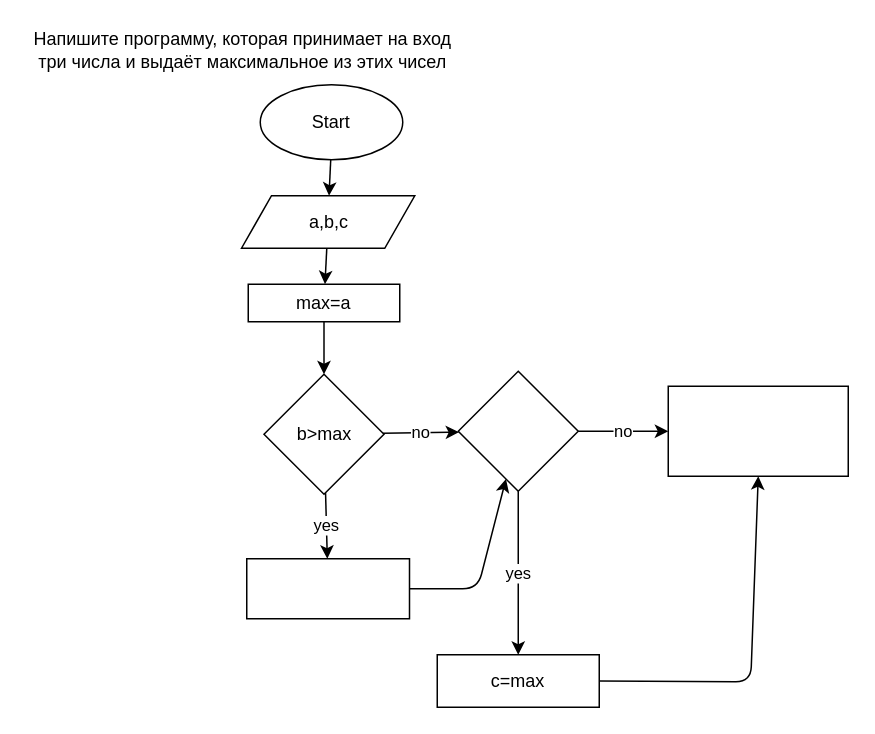
Image size: 875x734. Some labels were removed from this diagram. Each missing label, with the box of its shape:
b=max: (245, 557, 410, 619)
c>max: (457, 370, 578, 491)
print=max: (667, 385, 848, 476)
